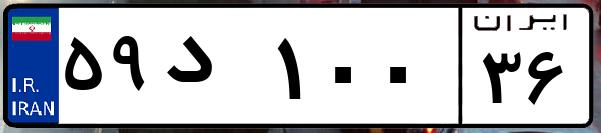0: (385, 28, 445, 110), (330, 28, 385, 110)
1: (270, 28, 330, 110)
3: (475, 38, 525, 113)
5: (57, 26, 110, 100)
6: (525, 38, 570, 115)
9: (110, 28, 158, 98)
د: (158, 20, 270, 120)
